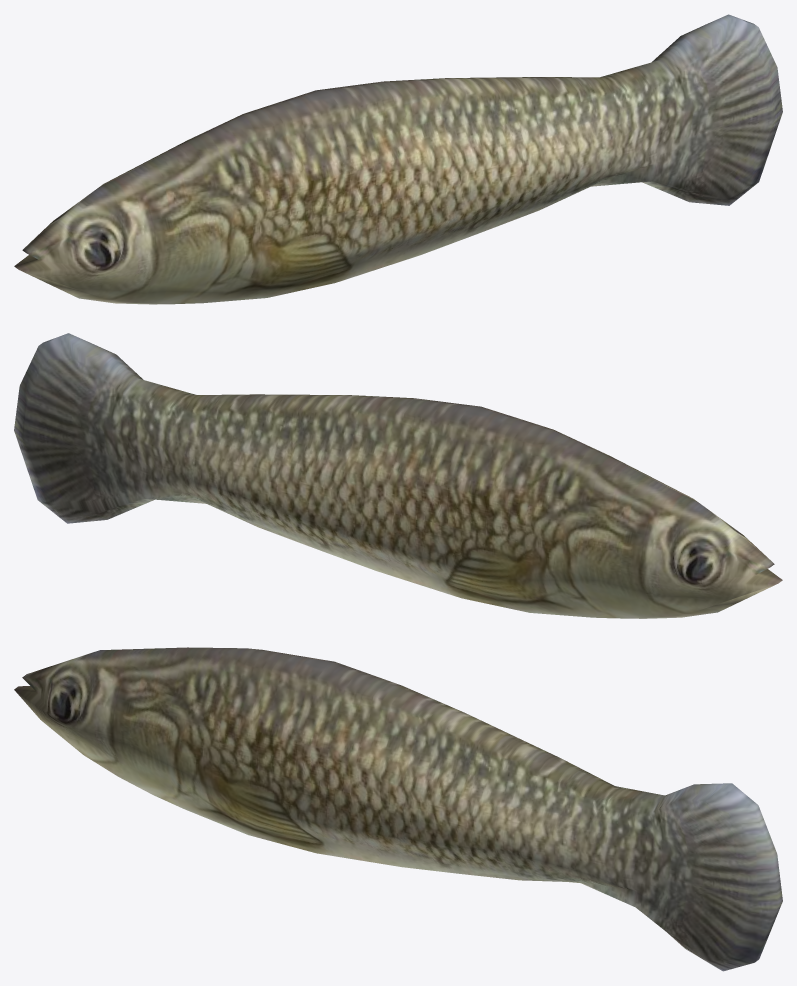
The model's file is mummichog.glb.
3 renders of one model, top to bottom at view 1: azimuth 30°, elevation 25°; view 2: azimuth 150°, elevation 25°; view 3: azimuth 330°, elevation 25°, orthographic.
Visible parts, largest first — view 1: Mummichog.002; view 2: Mummichog.002; view 3: Mummichog.002.
Part boxes in pixels (x1,y1,x2,y2): Mummichog.002: (14,14,782,304); Mummichog.002: (14,333,782,618); Mummichog.002: (14,647,782,971).
Size of the model in its own units: 2.28 by 0.598 by 0.2775.
1 material, 1 textured.
